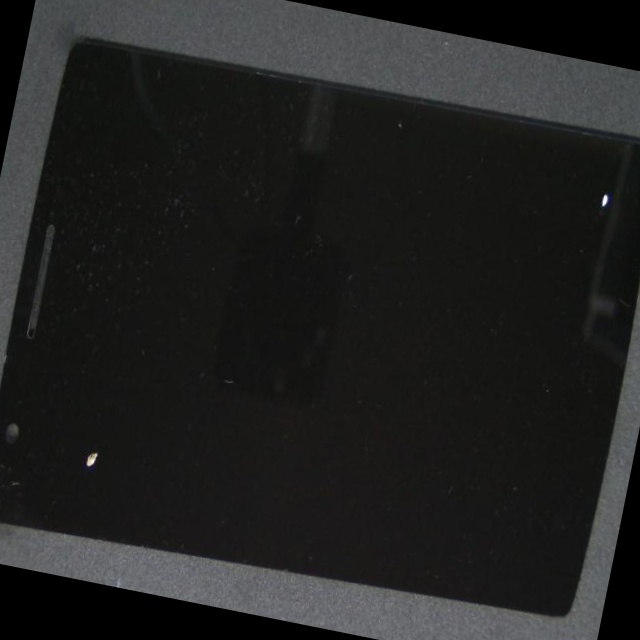stain: (263, 74, 640, 303), (12, 185, 206, 590)
